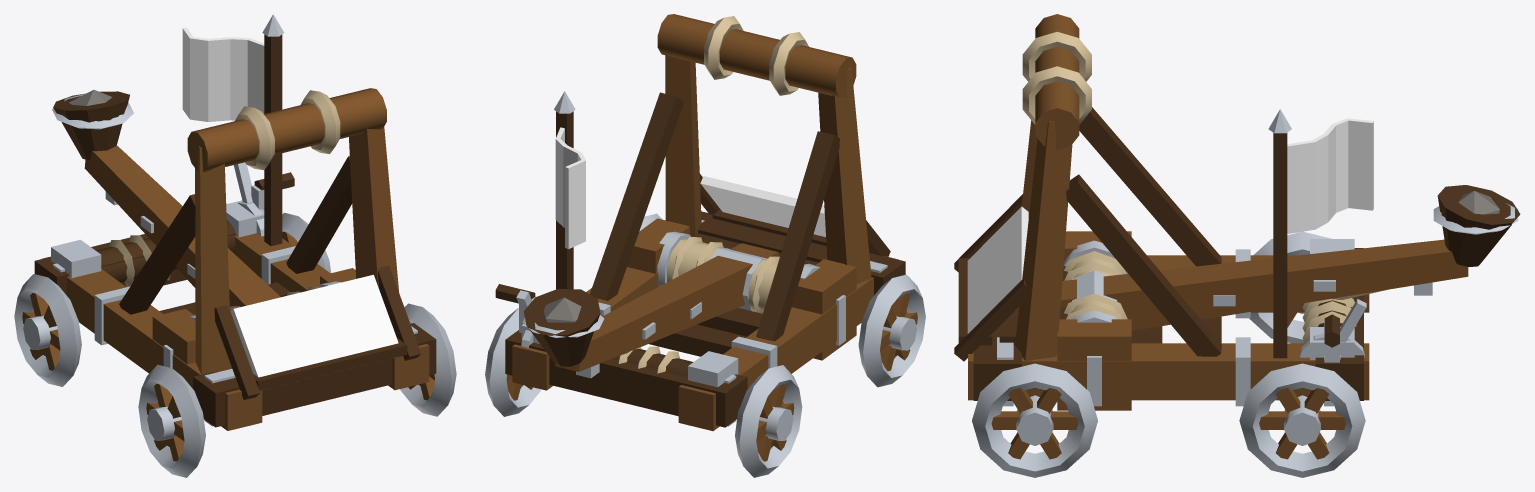
The model's file is Catapult_SecondAge.glb.
3 renders of one model, left to right at view 1: azimuth 30°, elevation 25°; view 2: azimuth 150°, elevation 25°; view 3: azimuth 270°, elevation 25°, orthographic. The views are drawn at different scales.
Parts seen in each view (by area): view 1: Wood, Dark, Team, Wheel_Metal, Arm_Wood, Metal, Rope, Arm_Dark, Wheel_Wood, Arm_Metal; view 2: Wood, Dark, Wheel_Metal, Arm_Wood, Team, Rope, Metal, Arm_Dark, Wheel_Wood, Arm_Metal, Arm_Stone; view 3: Wood, Dark, Wheel_Metal, Arm_Wood, Team, Rope, Metal, Wheel_Wood, Arm_Dark, Arm_Metal, Arm_Stone.
Part boxes in pixels (box(x1,y1,x2,y2)): Wood: box(42, 88, 429, 430); Dark: box(34, 34, 436, 427); Team: box(182, 27, 398, 377); Wheel_Metal: box(14, 212, 456, 477); Arm_Wood: box(84, 145, 280, 306); Metal: box(51, 14, 417, 426); Rope: box(109, 90, 340, 311); Arm_Dark: box(53, 91, 129, 159); Wheel_Wood: box(22, 232, 434, 461); Arm_Metal: box(52, 93, 195, 278); Wood: box(512, 14, 898, 431); Dark: box(495, 92, 905, 427); Wheel_Metal: box(485, 213, 925, 477); Arm_Wood: box(555, 243, 778, 371); Team: box(555, 127, 825, 249); Rope: box(618, 16, 808, 373); Metal: box(516, 91, 887, 426); Arm_Dark: box(523, 289, 600, 366); Wheel_Wood: box(506, 293, 917, 461); Arm_Metal: box(522, 248, 767, 378); Arm_Stone: box(543, 297, 581, 322); Wood: box(968, 14, 1369, 410); Dark: box(954, 107, 1363, 400); Wheel_Metal: box(972, 231, 1365, 477); Arm_Wood: box(1060, 239, 1468, 330); Team: box(967, 118, 1373, 333); Rope: box(1022, 31, 1387, 343); Metal: box(997, 109, 1366, 406); Wheel_Wood: box(991, 312, 1345, 459); Arm_Dark: box(1437, 185, 1520, 266); Arm_Metal: box(1071, 203, 1518, 306); Arm_Stone: box(1458, 191, 1499, 214).
Size of the model in its own units: 0.95 by 1.08 by 1.52.
